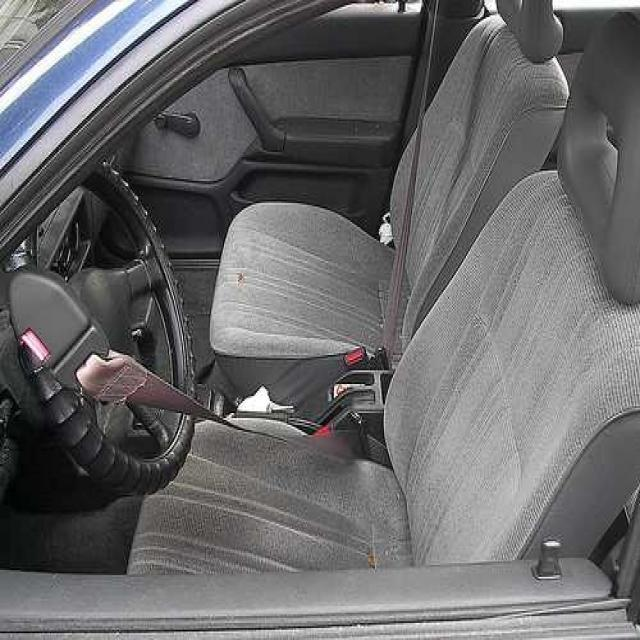seatbelt: (360, 1, 456, 348)
